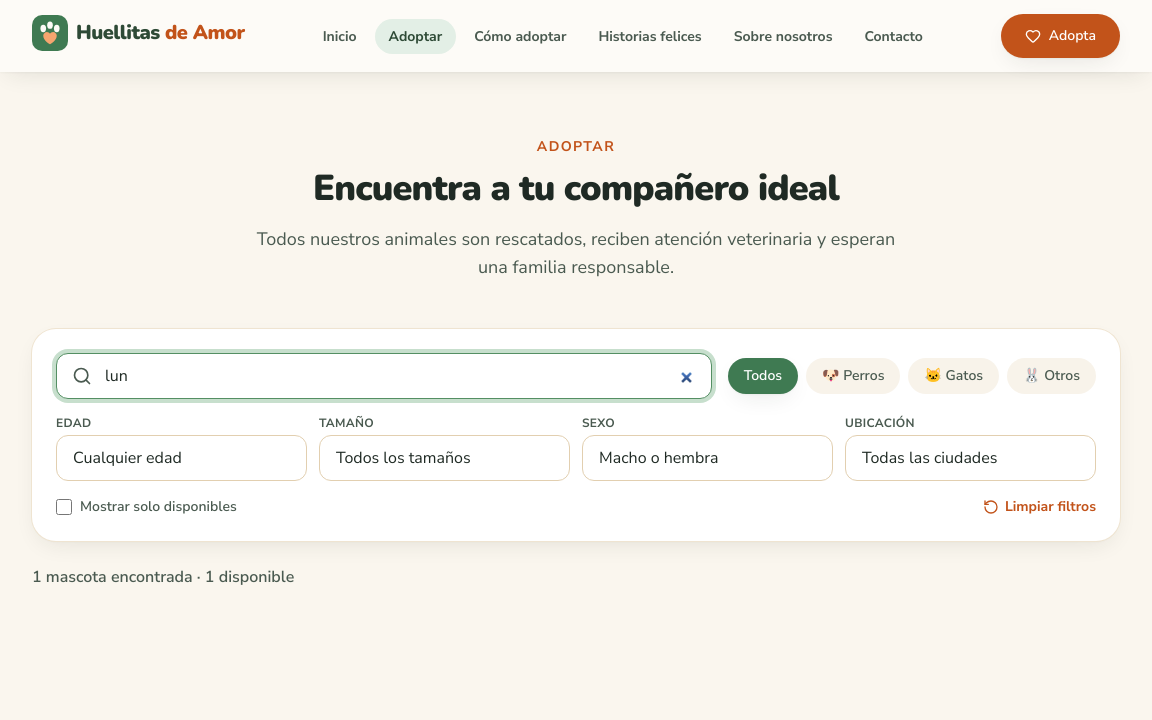
Test: Huellitas de Amor › busca por nombre y filtra por especie
The image size is (1152, 720).
Earlier steps of the test are not shown.
(page scrolled)
Step 1. Clear the search field named "Buscar por nombre" → (384, 376), box [56,353,712,399]
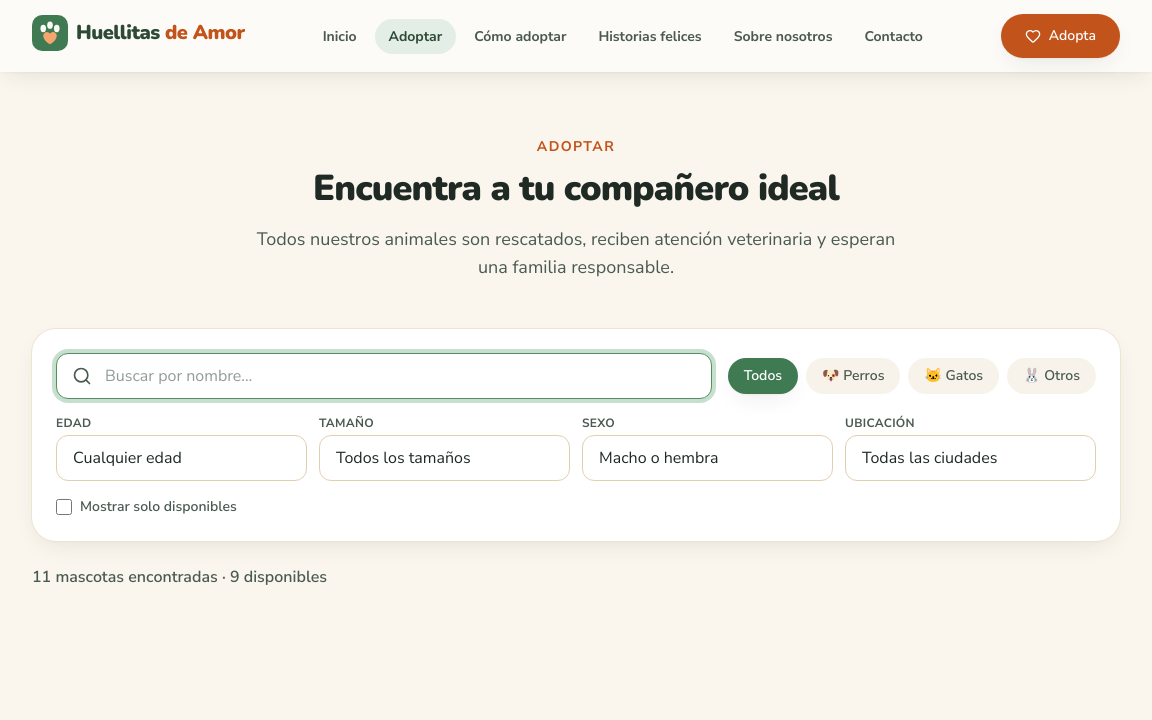
Step 2. Click the button "🐱 Gatos" → (954, 376), box [908,358,999,394]
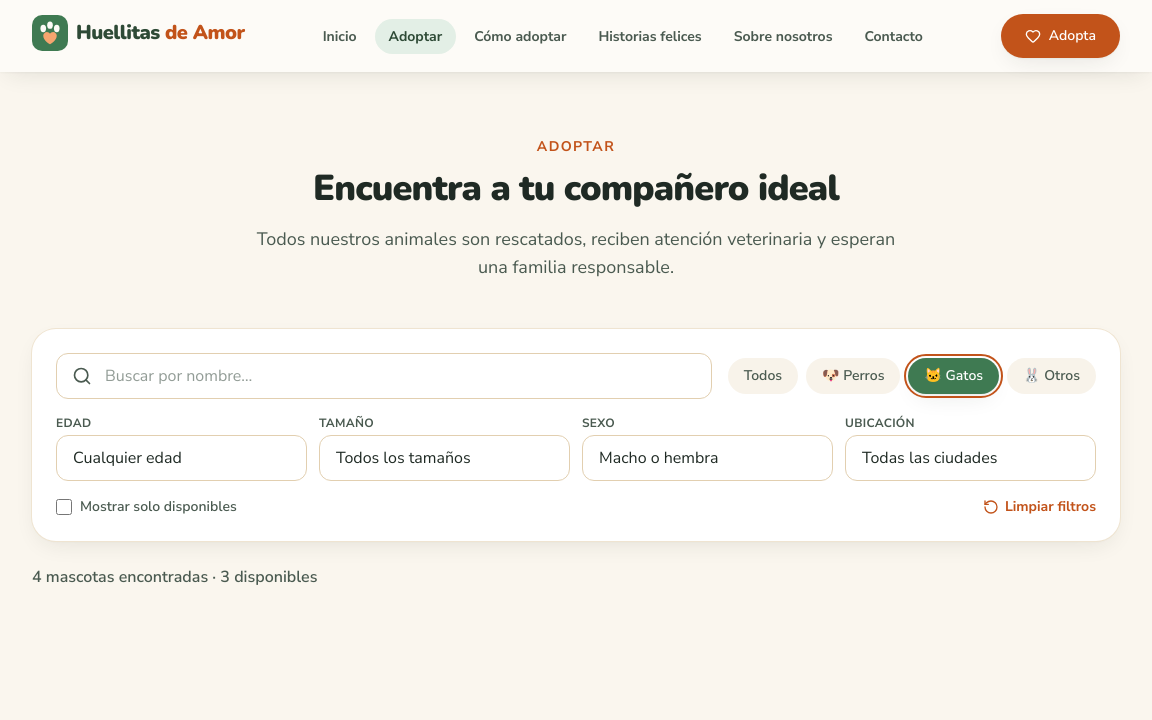
Expected: the button "🐱 Gatos" is pressed, [908,358,999,394]
